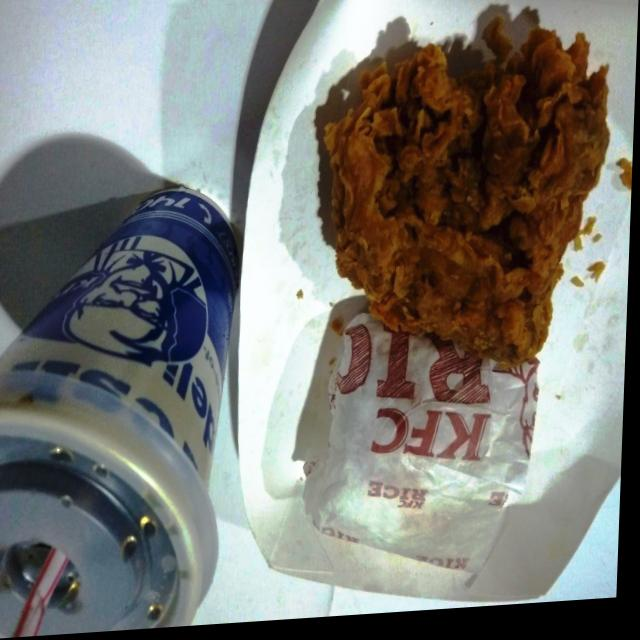fried_chicken: (309, 10, 624, 386)
